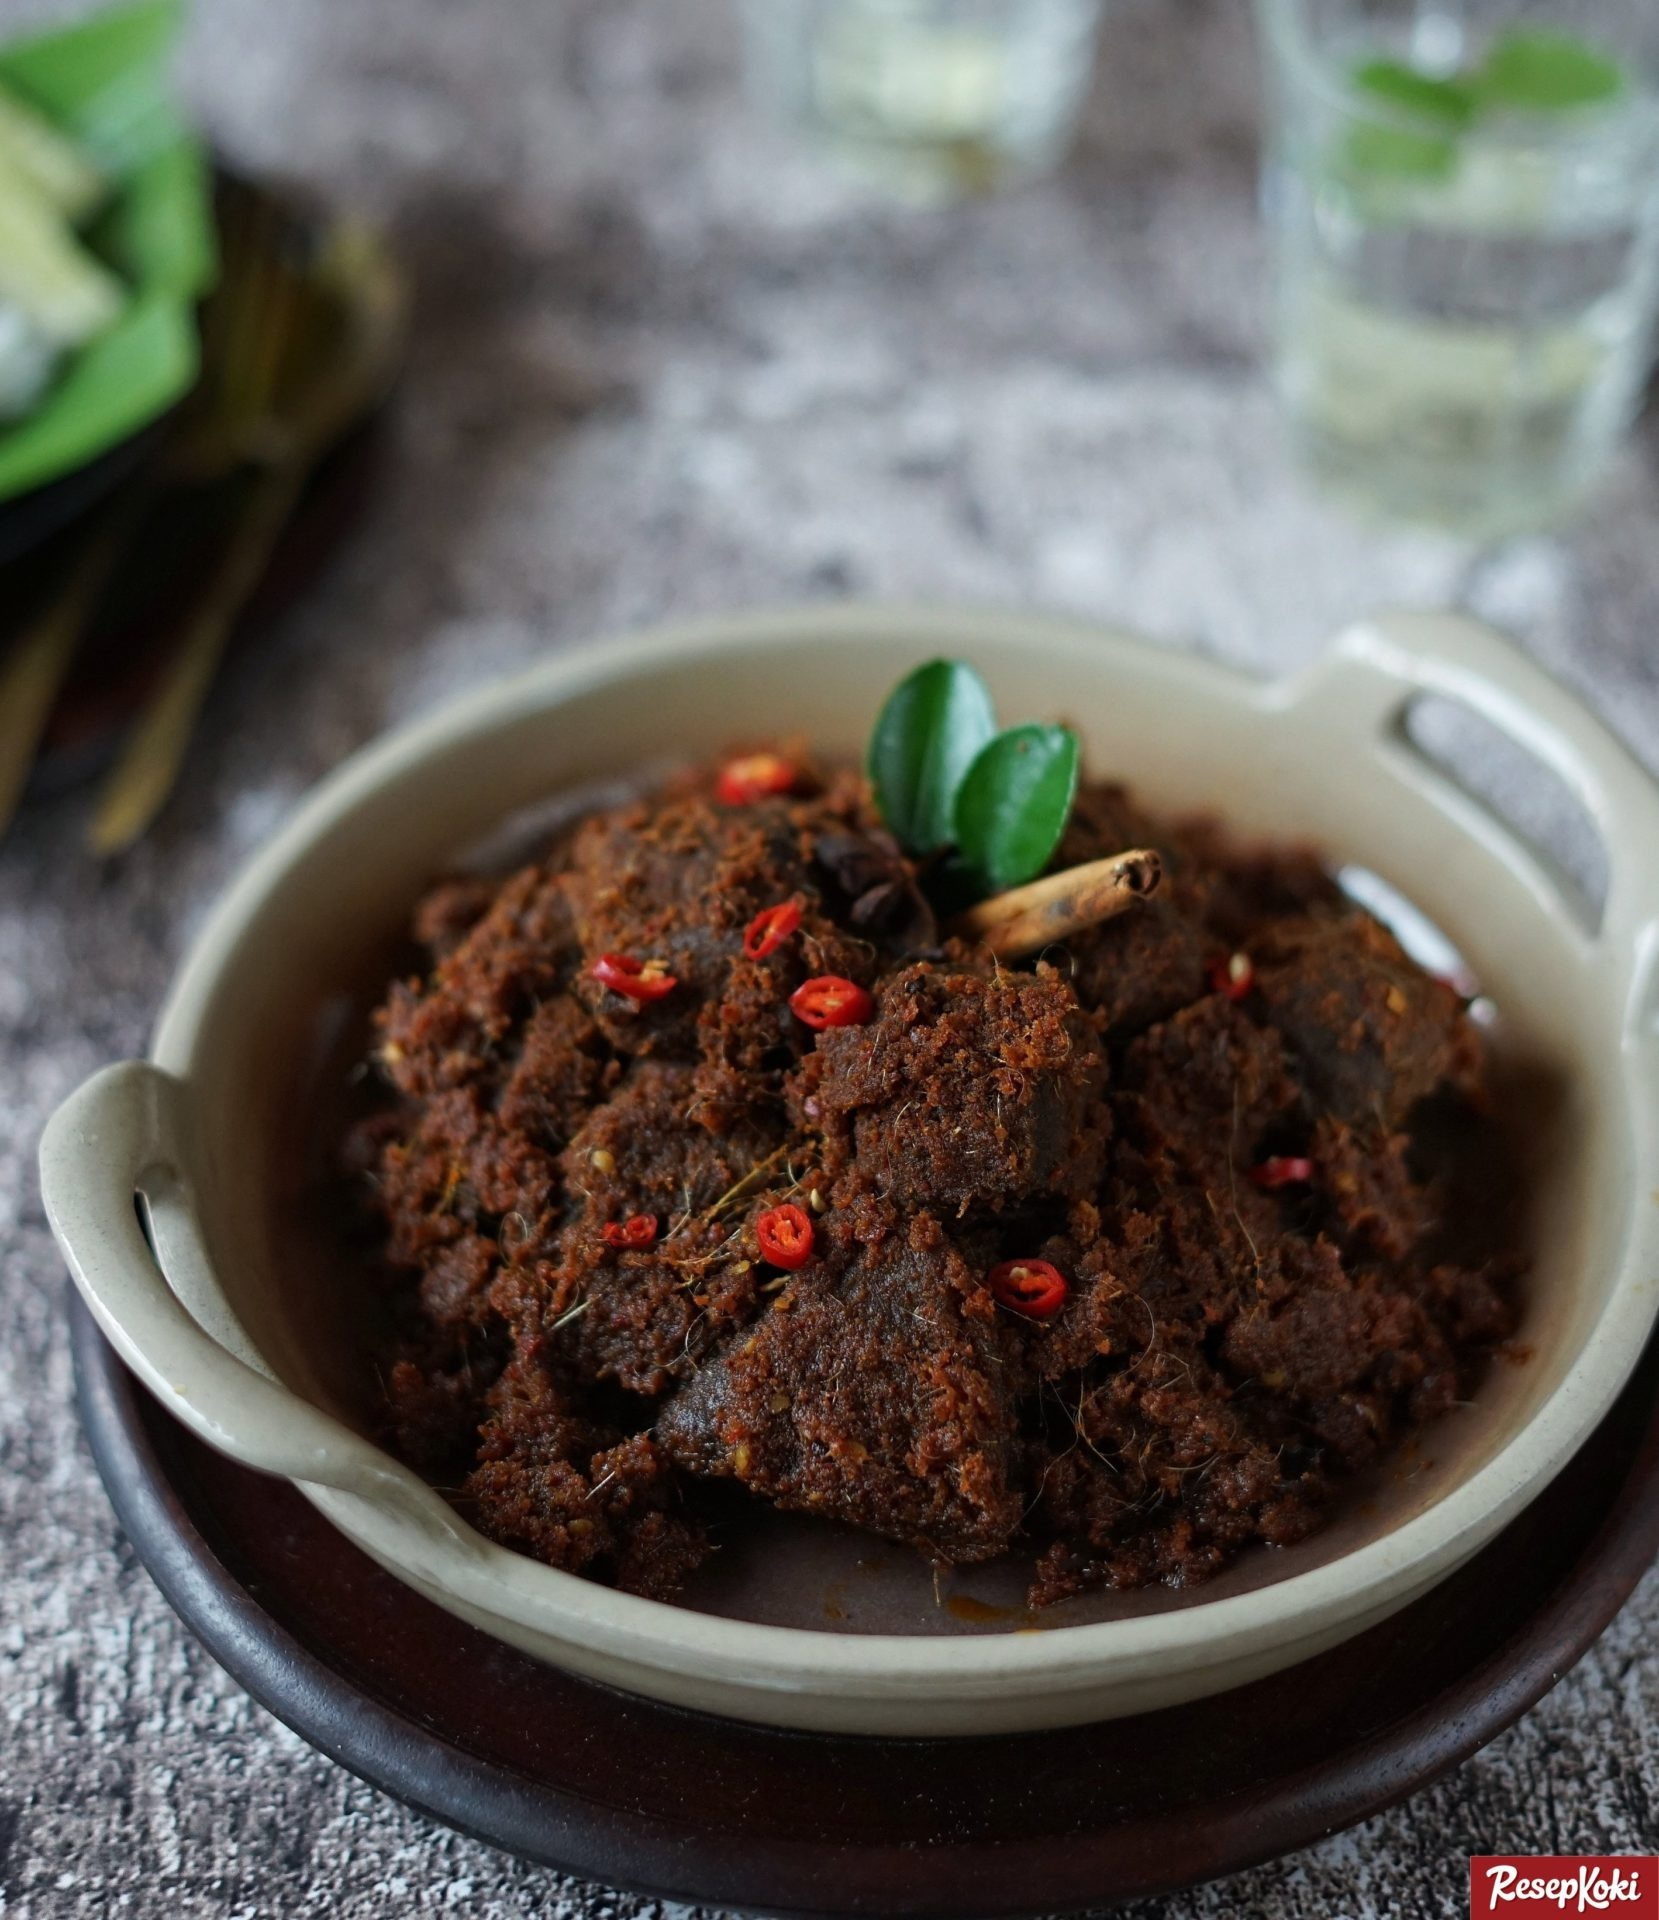rendang: (282, 800, 1514, 1584)
